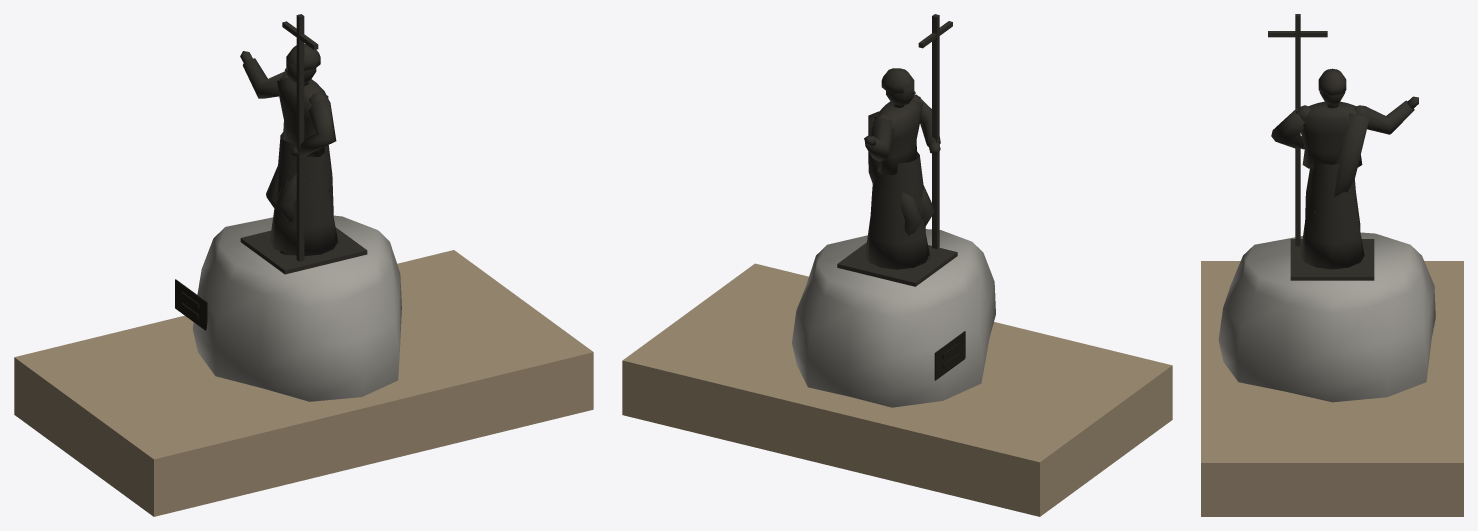
Rendered from andrey_hersones.glb.
3 views of the same model, side by side, from view 1: azimuth 30°, elevation 25°; view 2: azimuth 150°, elevation 25°; view 3: azimuth 270°, elevation 25° (orthographic). The views are drawn at different scales.
Visible parts, largest first — view 1: andrey_hersones_stone, andrey_hersones_wall2, andrey_hersones_wall3, andrey_hersones_metal; view 2: andrey_hersones_stone, andrey_hersones_wall2, andrey_hersones_wall3, andrey_hersones_metal; view 3: andrey_hersones_stone, andrey_hersones_wall2, andrey_hersones_wall3.
Part boxes in pixels (bbox=[...]): andrey_hersones_stone: bbox=[14, 250, 593, 516]; andrey_hersones_wall2: bbox=[192, 215, 401, 401]; andrey_hersones_wall3: bbox=[240, 14, 367, 274]; andrey_hersones_metal: bbox=[175, 279, 207, 330]; andrey_hersones_stone: bbox=[622, 263, 1172, 516]; andrey_hersones_wall2: bbox=[792, 229, 995, 407]; andrey_hersones_wall3: bbox=[837, 14, 957, 286]; andrey_hersones_metal: bbox=[934, 331, 965, 380]; andrey_hersones_stone: bbox=[1201, 261, 1463, 516]; andrey_hersones_wall2: bbox=[1218, 232, 1435, 402]; andrey_hersones_wall3: bbox=[1268, 14, 1418, 280].
Size of the model in its own units: 8 by 7.22 by 4.4.
